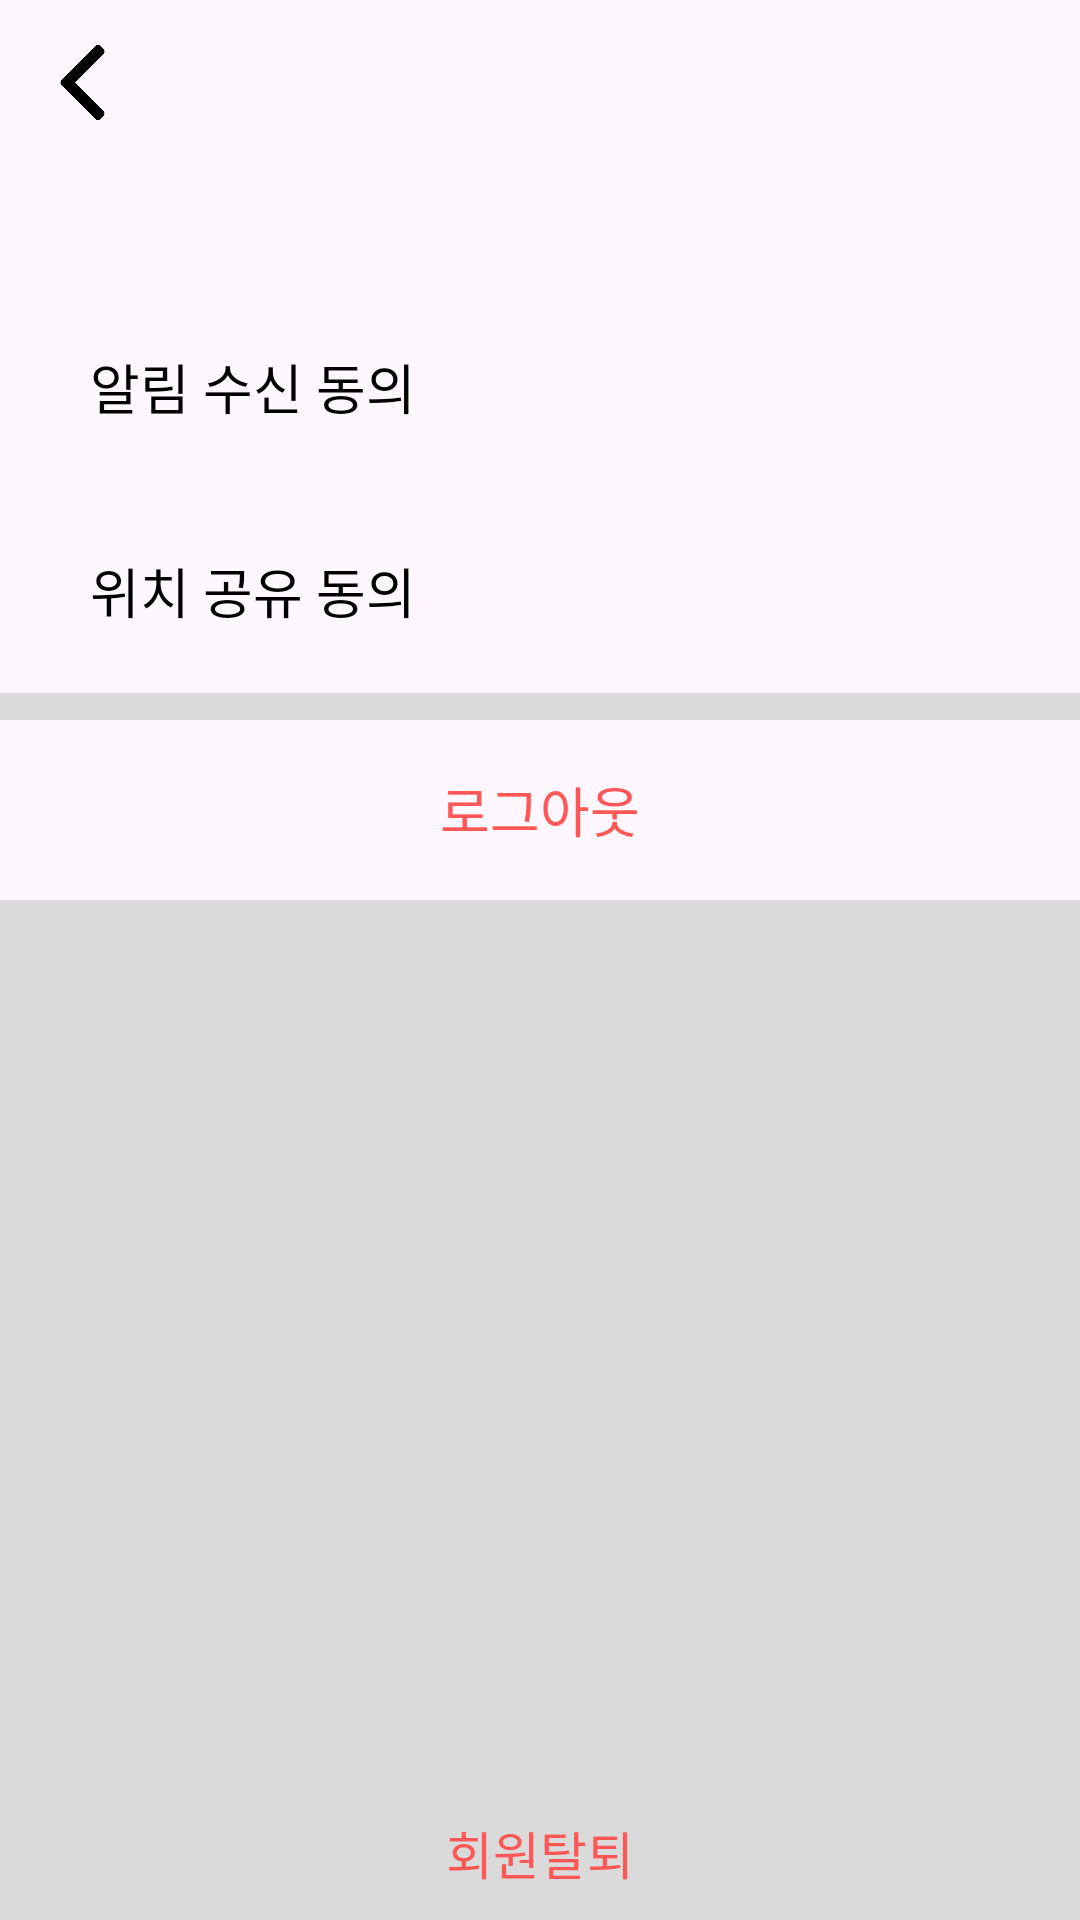

Where icons sit on this 1080px×1920px app screen, as {"left": x1, "top": y1, "right": x2, "bottom": y2}:
left arrow: {"left": 60, "top": 45, "right": 105, "bottom": 120}
